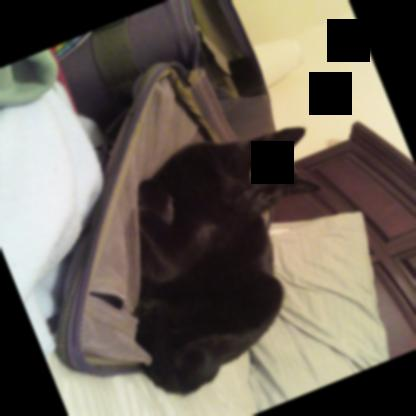suitcase: (59, 0, 274, 376)
